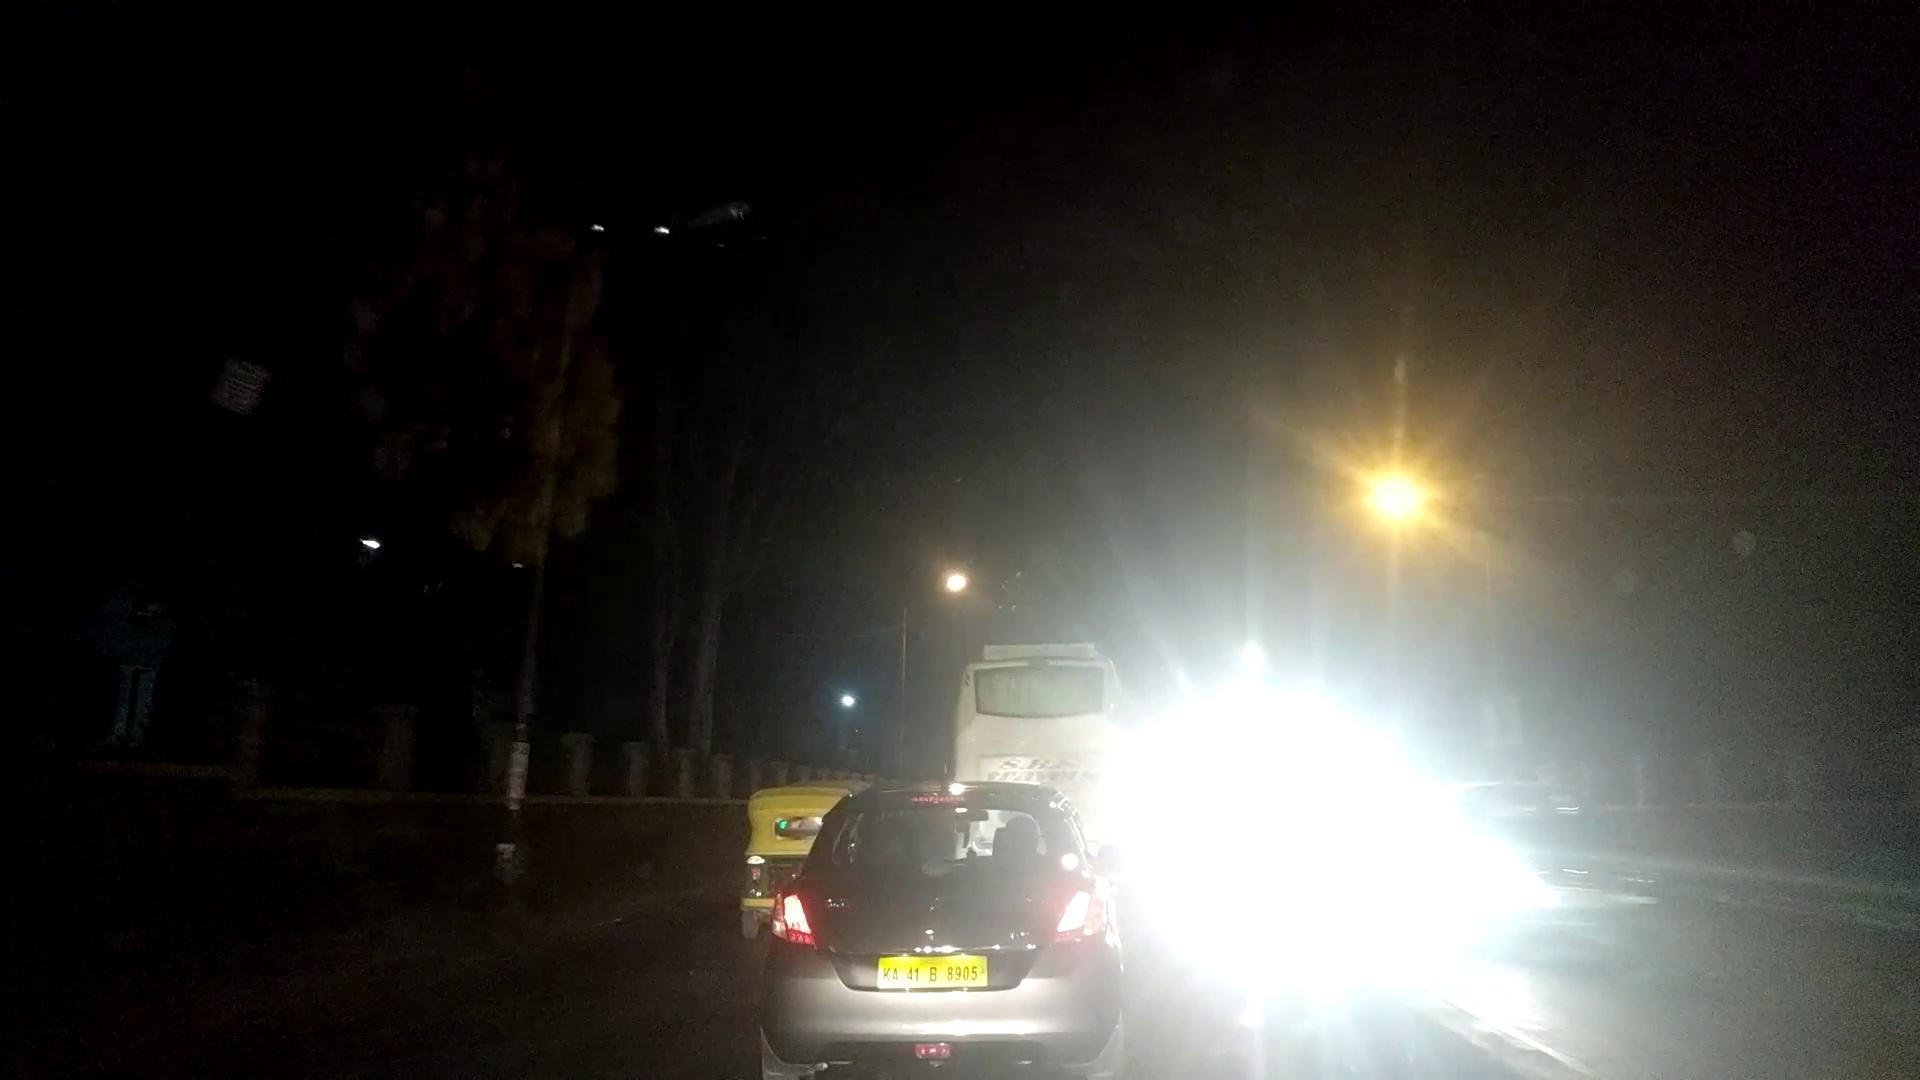on: (1244, 282, 1551, 715)
